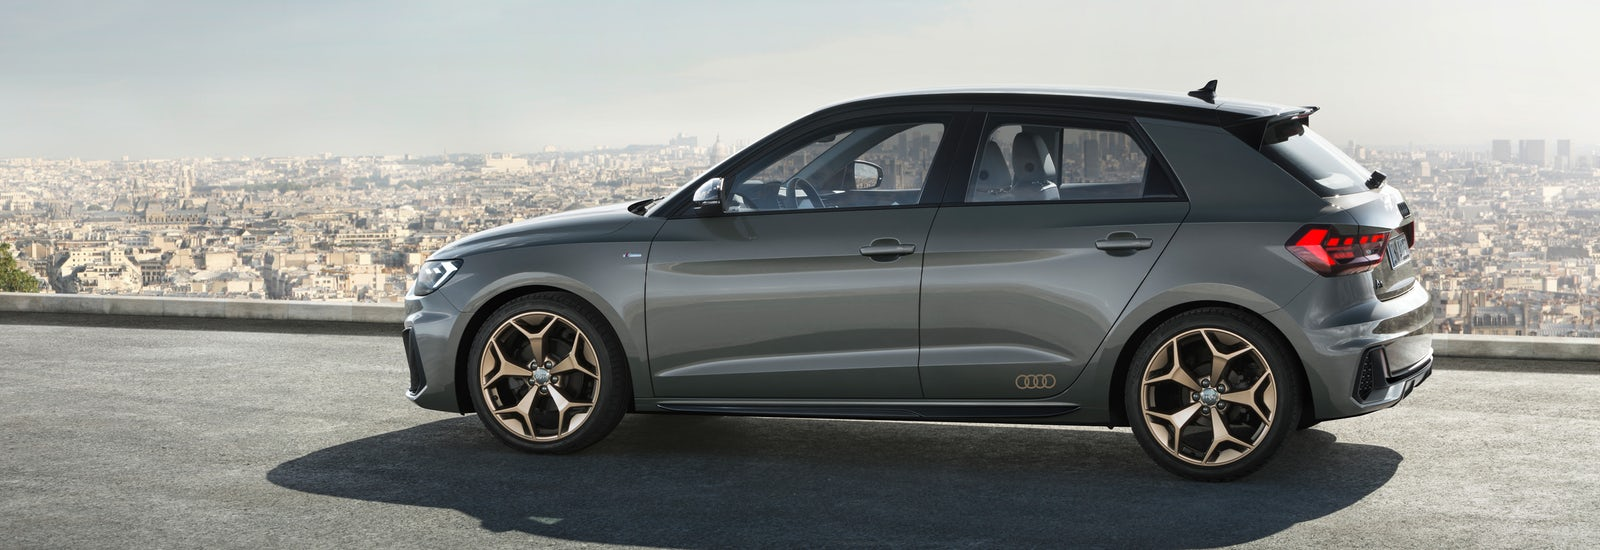audi: (399, 77, 1438, 486)
